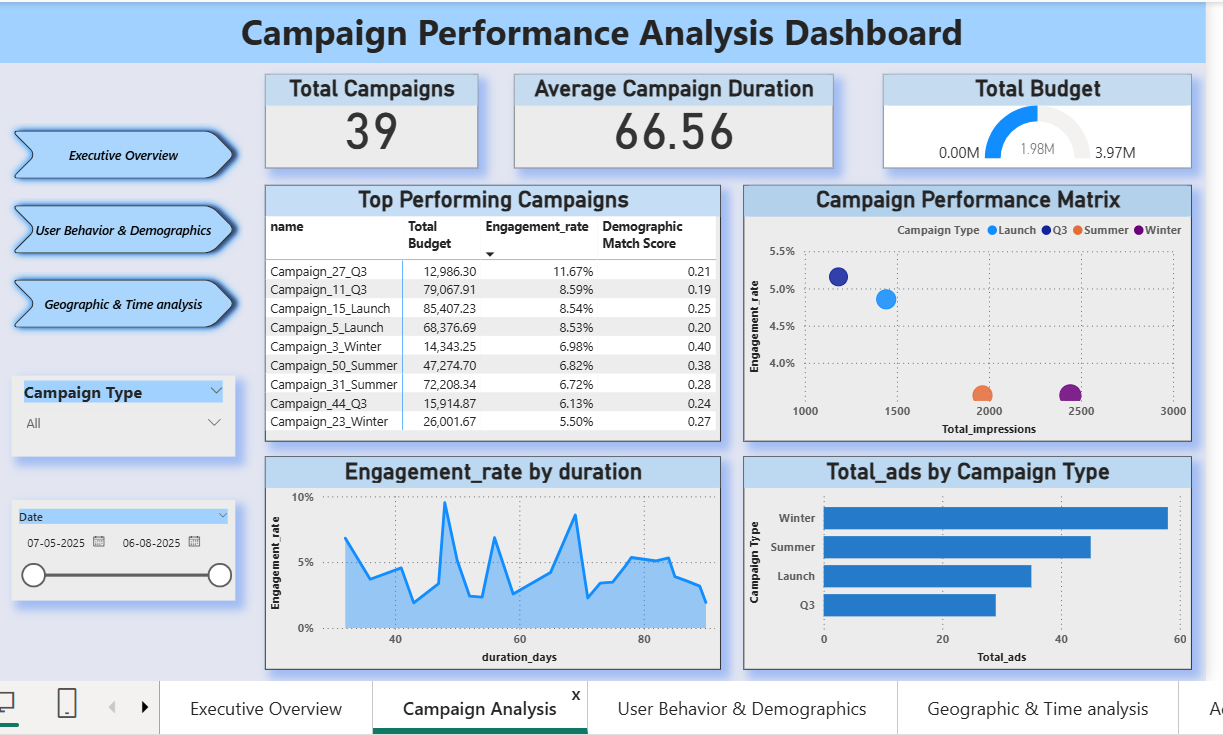

What the dashboard file says about the page in this screenshot:
{"tool":"powerbi","page":{"name":"Campaign Analysis ","canvas":[1280,720],"ordinal":1},"visuals":[{"type":"scatterChart","title":"Campaign Performance Matrix","fields":{"X":["ad_events.Total_impressions"],"Y":["ad_events.Engagement_rate"],"Series":["campaigns.Campaign Type"],"Size":["ad_events.Engagements"]},"box":[790.5,194.1,475.6,272],"z":0},{"type":"textbox","box":[0,0,1280.8,64.8],"z":1000},{"type":"card","title":"Total Campaigns","fields":{"Values":["campaigns.Total_Campaigns"]},"box":[283.1,76.3,225.9,100.2],"z":2000},{"type":"slicer","fields":{"Values":["campaigns.Campaign Type"]},"box":[14.3,396.1,237,85.9],"z":3000},{"type":"slicer","fields":{"Values":["Date.Date"]},"box":[14.3,528.1,237,106.6],"z":4000},{"type":"clusteredBarChart","fields":{"Category":["campaigns.Campaign Type"],"Y":["ads.Total_ads"]},"box":[790.5,482,475.6,225.9],"z":5000},{"type":"stackedAreaChart","title":"Engagement_rate by duration","fields":{"Category":["campaigns.duration_days"],"Y":["ad_events.Engagement_rate"]},"box":[283.1,482,483.5,225.9],"z":6000},{"type":"pivotTable","title":"Top Performing Campaigns","fields":{"Rows":["campaigns.name"],"Values":["campaigns.Total Budget","ad_events.Engagement_rate","ad_events.Demographic Match Score"]},"box":[283.1,194.1,483.5,272],"z":7000},{"type":"pageNavigator","box":[4.8,127.2,256.1,227.5],"z":8000},{"type":"card","title":"Average Campaign Duration","fields":{"Values":["campaigns.Average_campaign_duration"]},"box":[547.2,76.3,338.8,100.2],"z":9000},{"type":"gauge","title":"Total Budget","fields":{"Y":["campaigns.Total Budget"]},"box":[938.5,76.3,327.7,100.2],"z":10000}]}

Visuals, with their boxes on the page's 1280x720 design canvas (x1, y1, x2, y2). These are canvas units, not pixel positions in the 1223x735 screenshot, which may show the page scaled, cropped or inside an application window:
"Campaign Performance Matrix" scatterChart: box(790, 194, 1266, 466)
textbox: box(0, 0, 1281, 65)
"Total Campaigns" card: box(283, 76, 509, 176)
slicer - campaigns.Campaign Type: box(14, 396, 251, 482)
slicer - Date.Date: box(14, 528, 251, 635)
clusteredBarChart - campaigns.Campaign Type x ads.Total_ads: box(790, 482, 1266, 708)
"Engagement_rate by duration" stackedAreaChart: box(283, 482, 767, 708)
"Top Performing Campaigns" pivotTable: box(283, 194, 767, 466)
pageNavigator: box(5, 127, 261, 355)
"Average Campaign Duration" card: box(547, 76, 886, 176)
"Total Budget" gauge: box(938, 76, 1266, 176)
